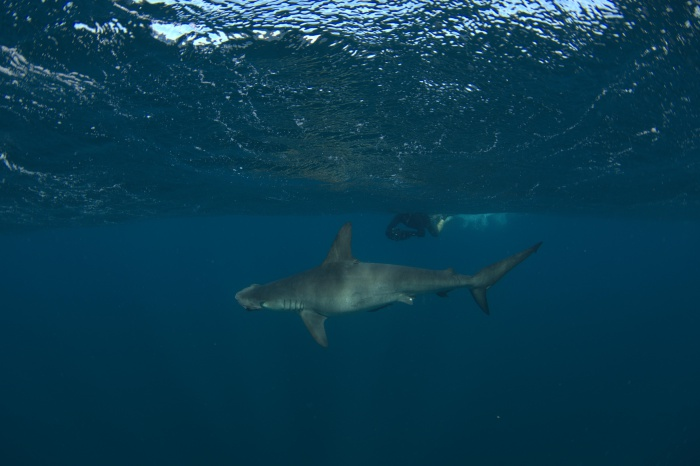Hammer: (225, 213, 558, 362)
